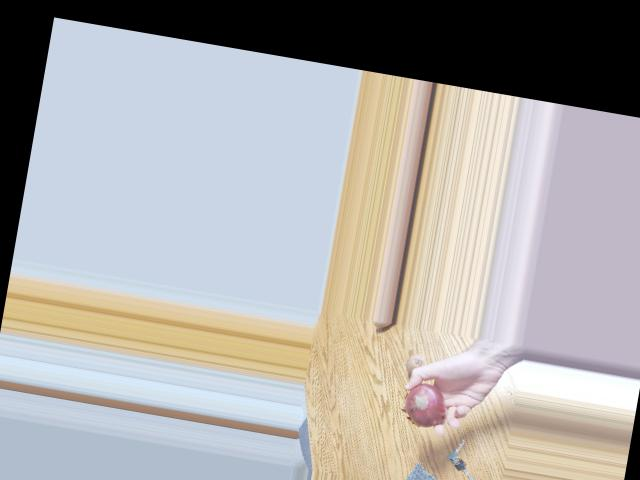onion: (404, 345, 435, 375)
